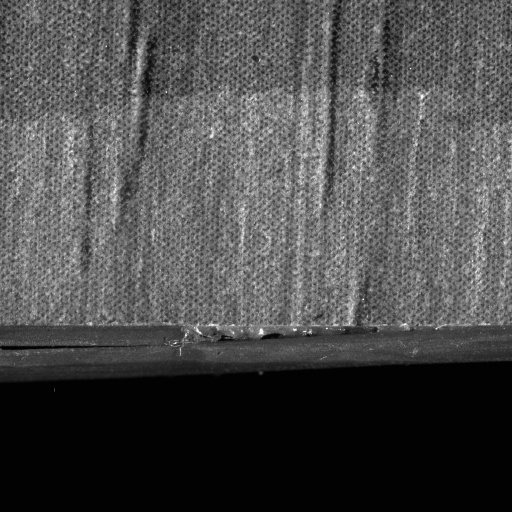kaijiao: (0, 320, 511, 381)
